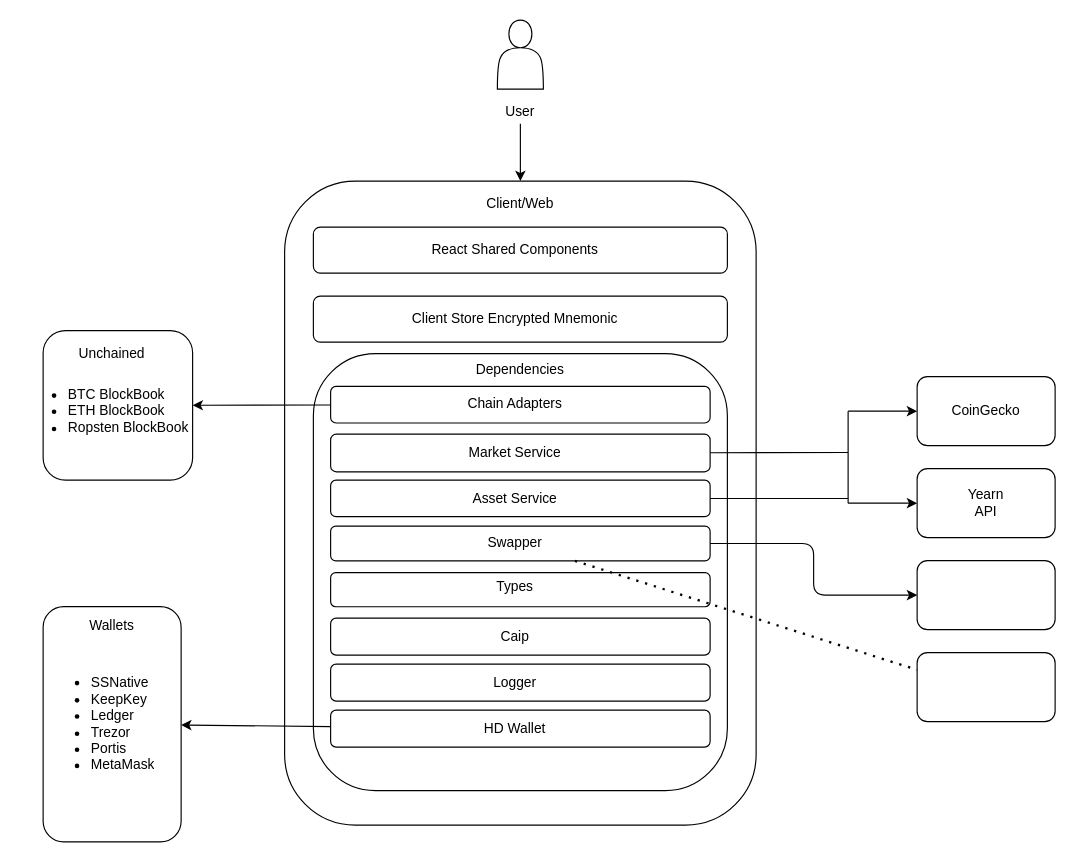
The diagram is 1075 pixels wide and 863 high, and some of its shapes have lost their labels. Here are the shapes that lost their labels. From the top down, the centre of each, then its label:
At pixel 985 594: "0x API".
At pixel 985 686: "Thorchain".
